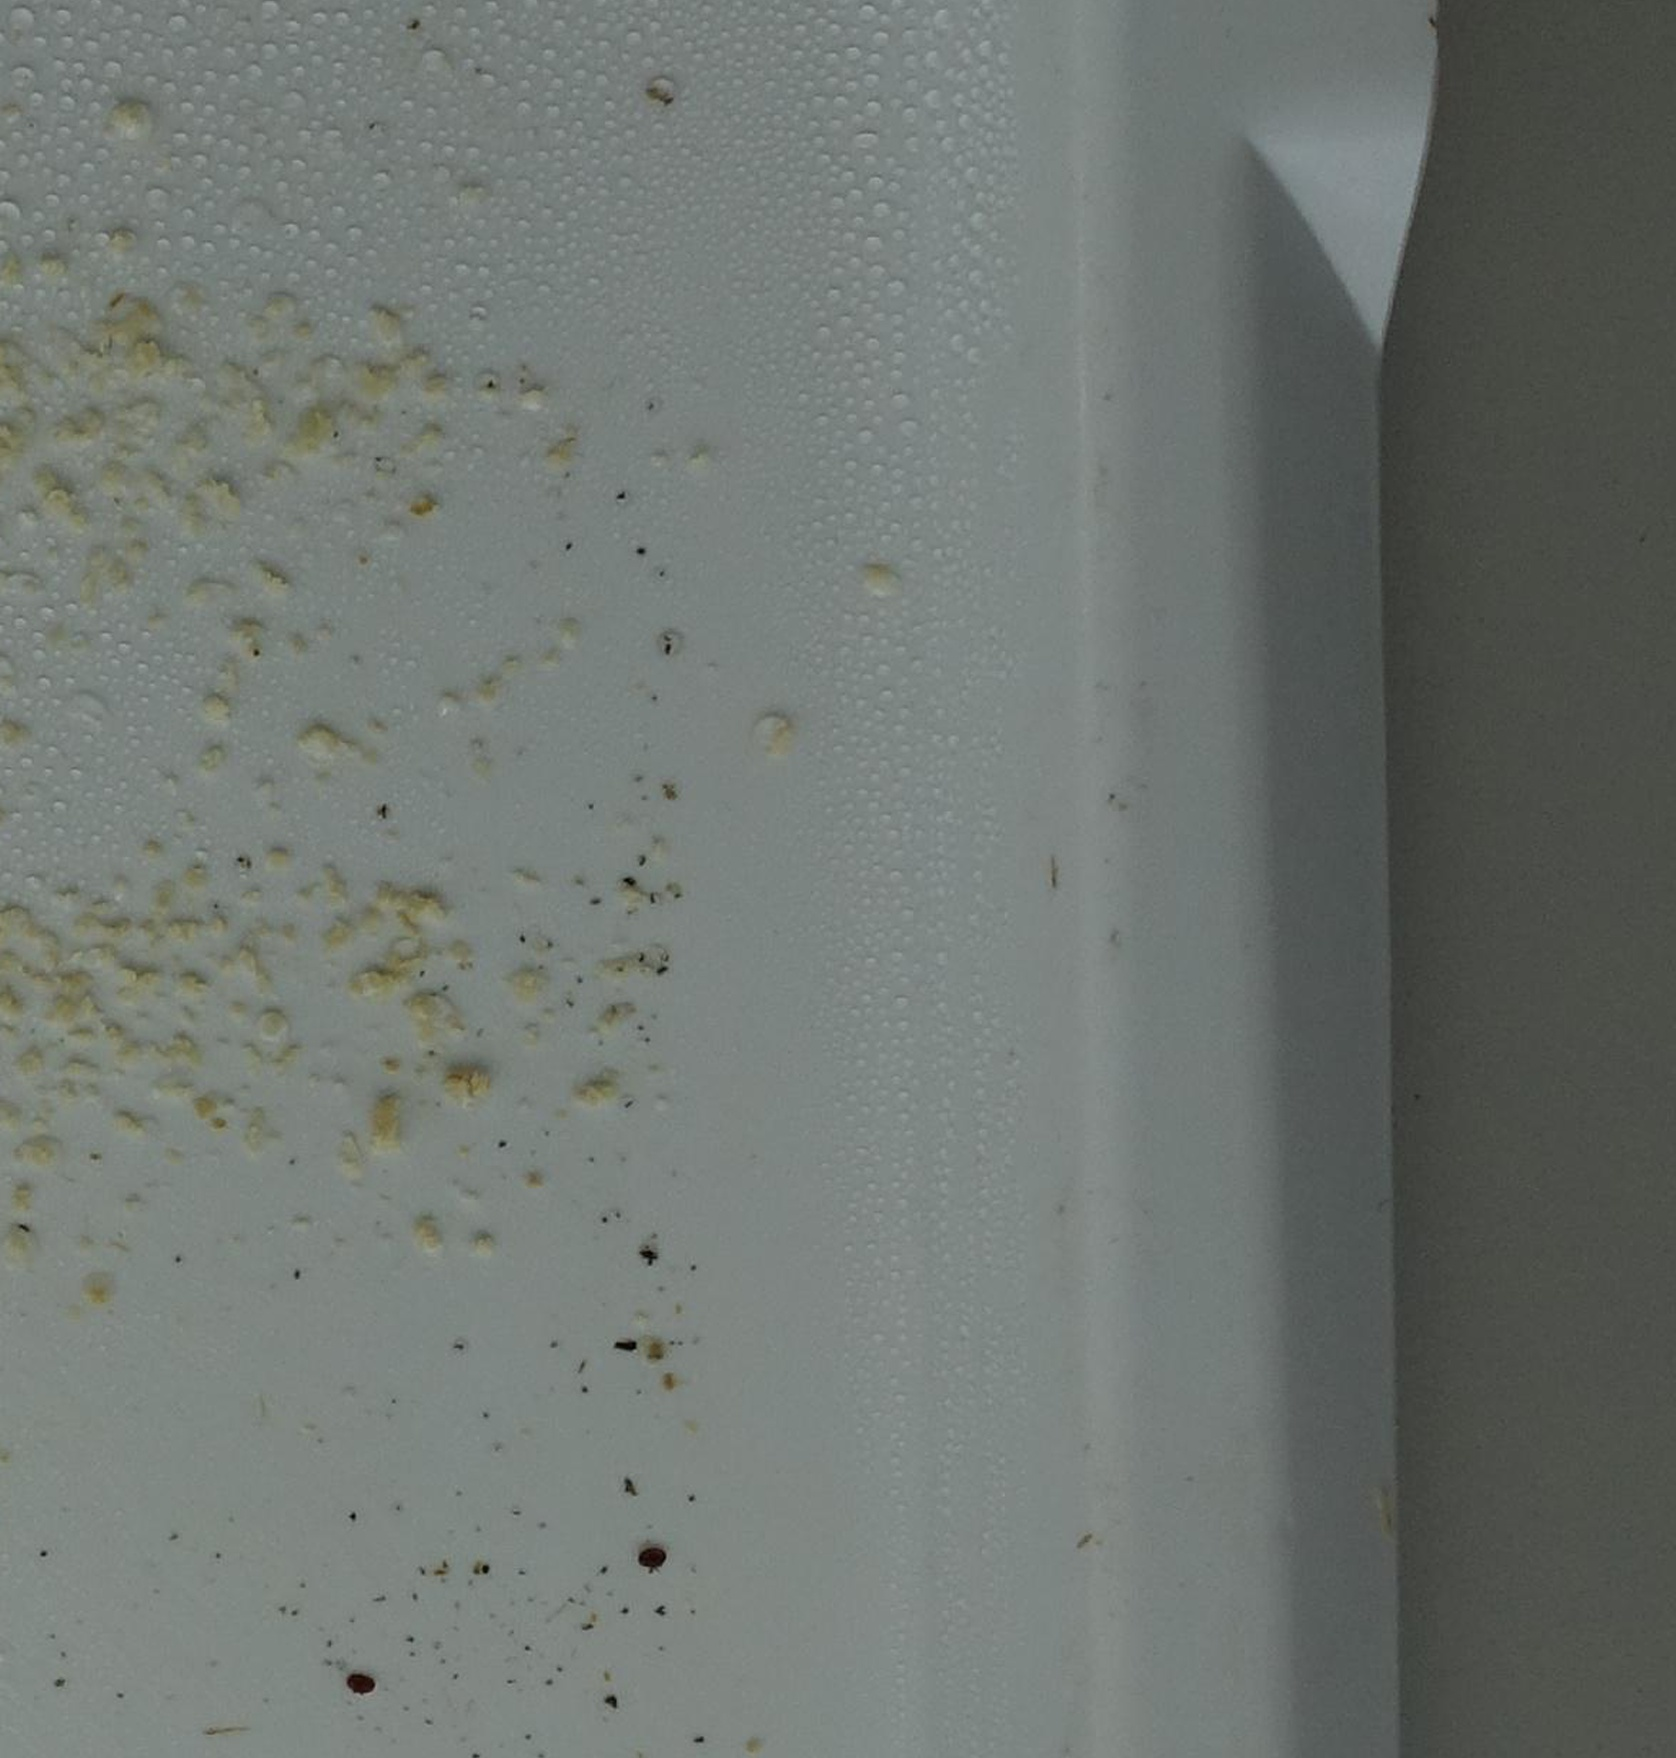Varroa: (636, 1545, 667, 1581), (345, 1670, 377, 1701)
